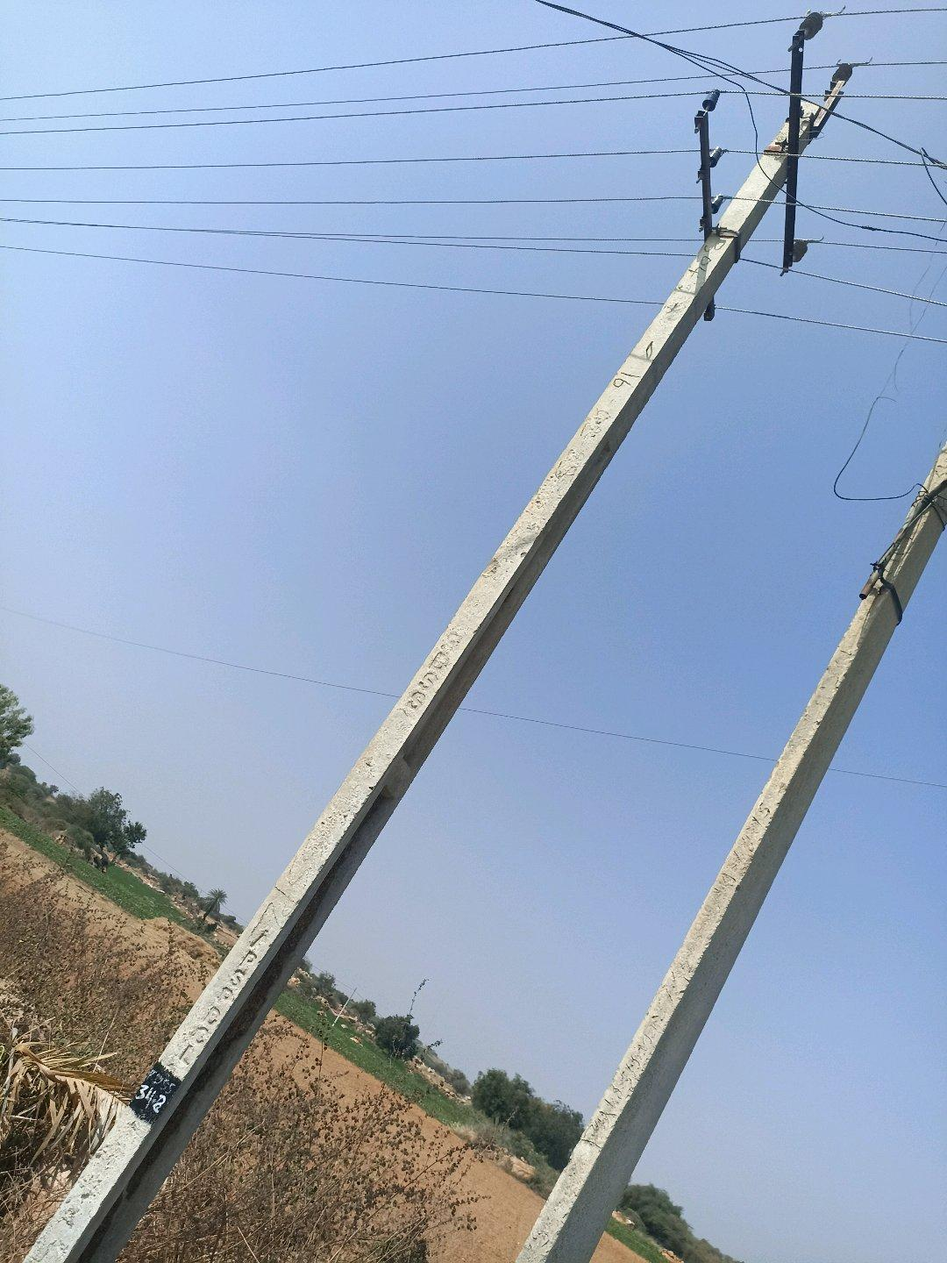{"0" "insulator", "1" "pole", "2" "crossarm", "3" "conductor", "4" "street_: (25, 13, 851, 1262), (802, 248, 804, 250)
